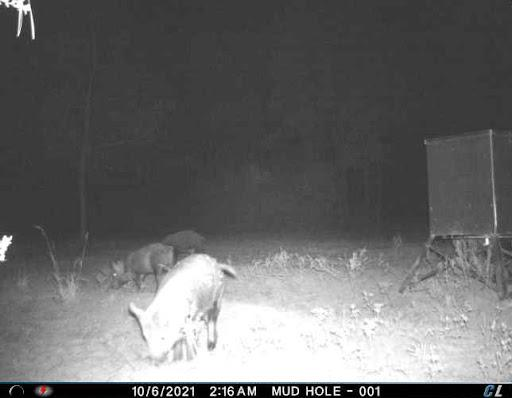Hog: (128, 251, 229, 374), (107, 243, 173, 290), (158, 225, 208, 258)
